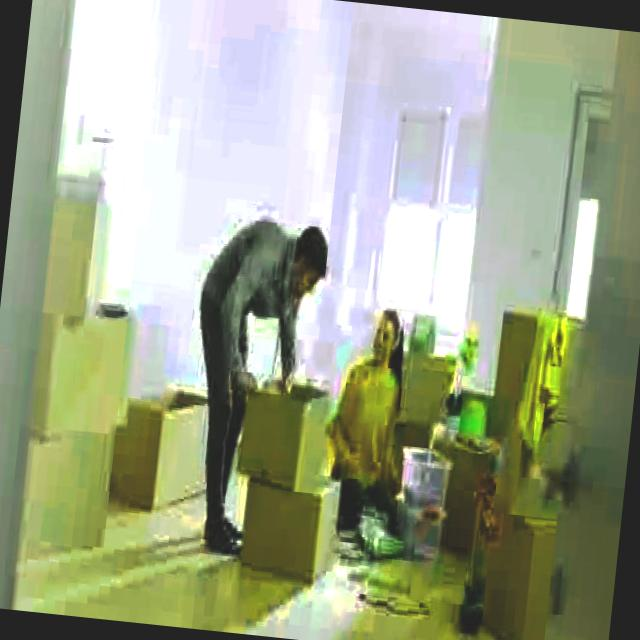Box: (120, 376, 214, 506), (20, 433, 111, 564), (41, 334, 136, 448), (240, 479, 339, 581), (46, 197, 111, 330), (234, 392, 332, 476)
